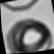correct: (1, 10, 54, 54)
